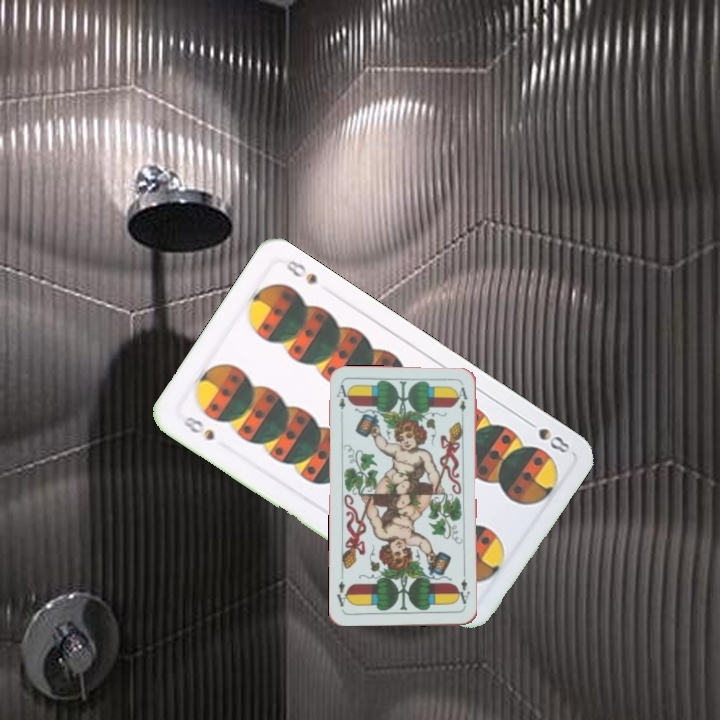EA: (453, 569, 472, 610), (332, 380, 351, 412)
S8: (520, 415, 573, 456), (175, 412, 217, 444)
